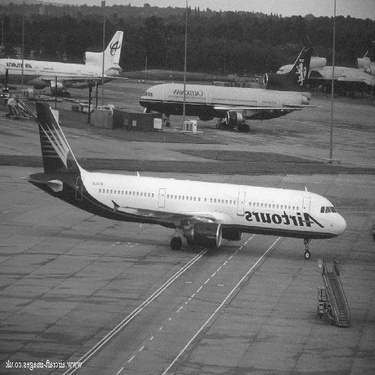airplane: (20, 85, 352, 273), (135, 38, 322, 136), (1, 27, 134, 91), (267, 42, 369, 104)
